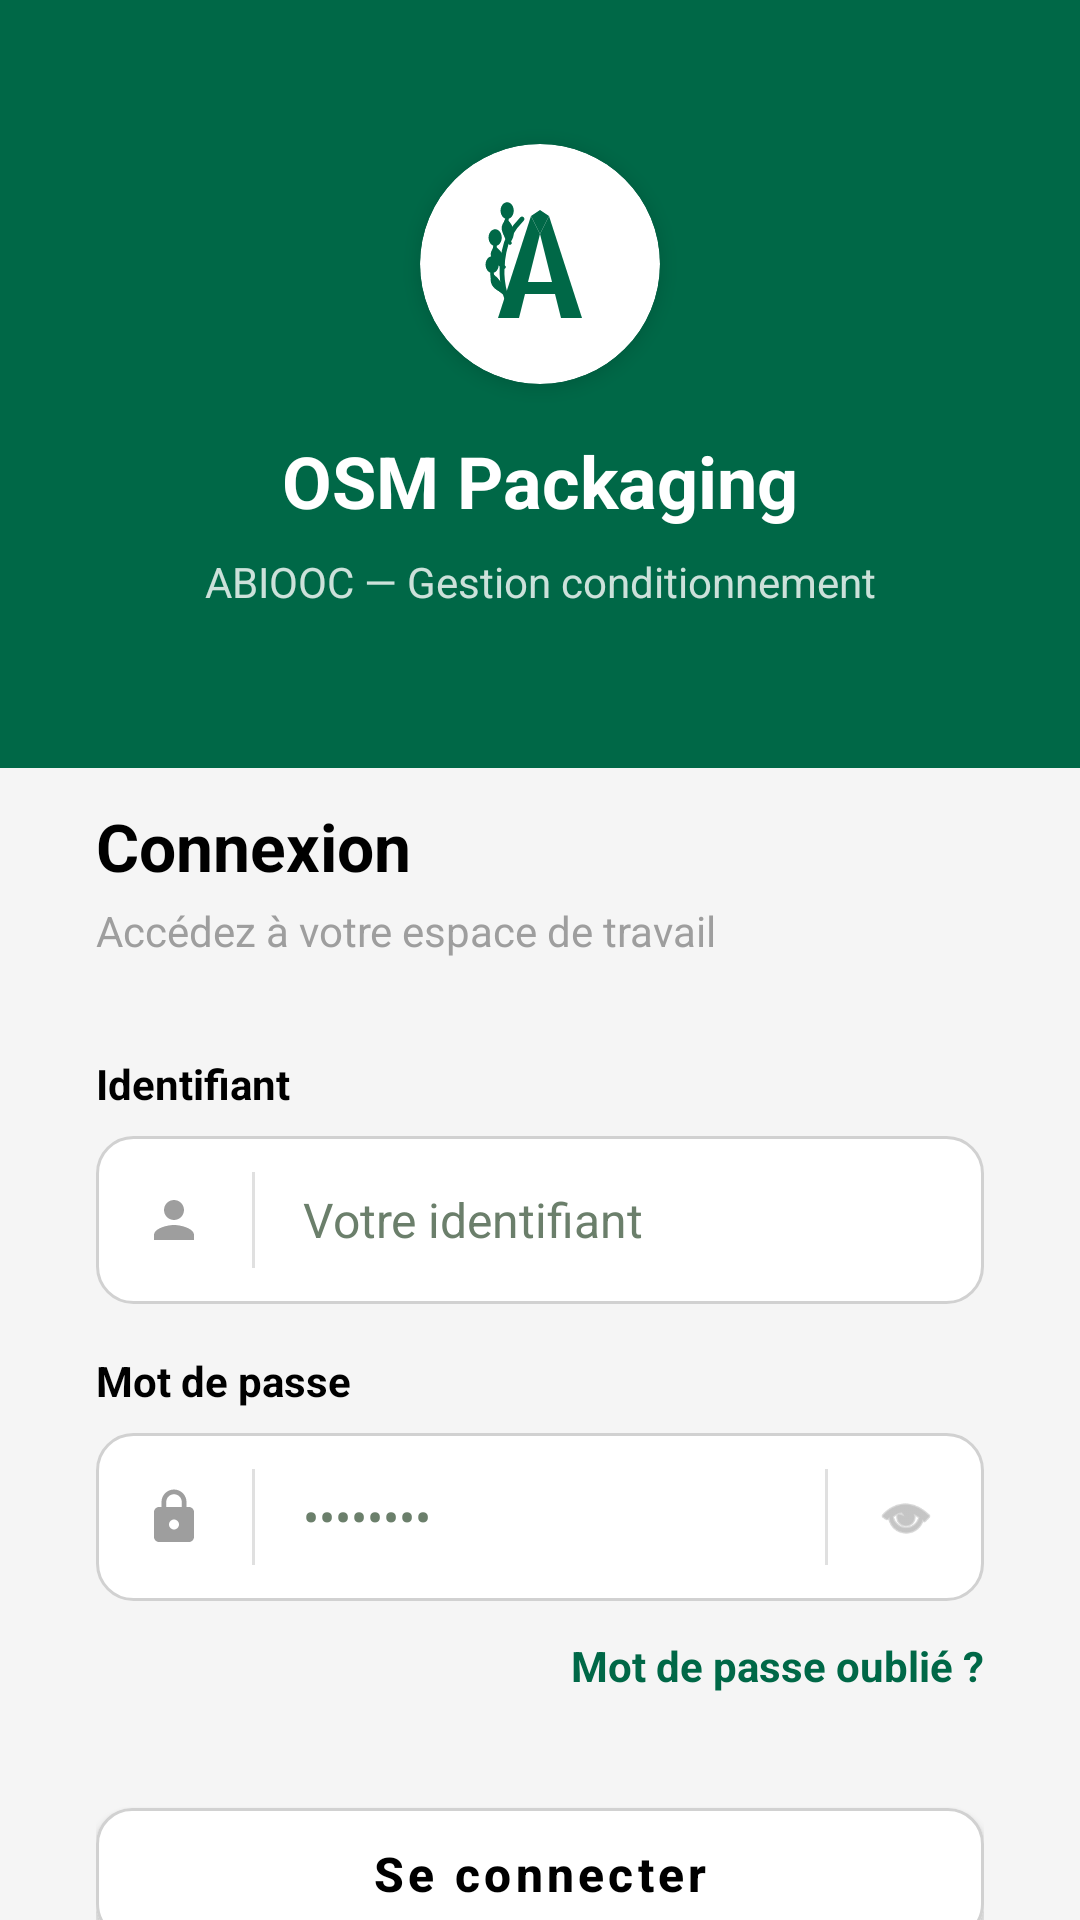

Where to tap for icons on this 1080px x 1920px app screen, as (x,y):
lock: (174,1515)
person: (174,1220)
view: (906,1518)
